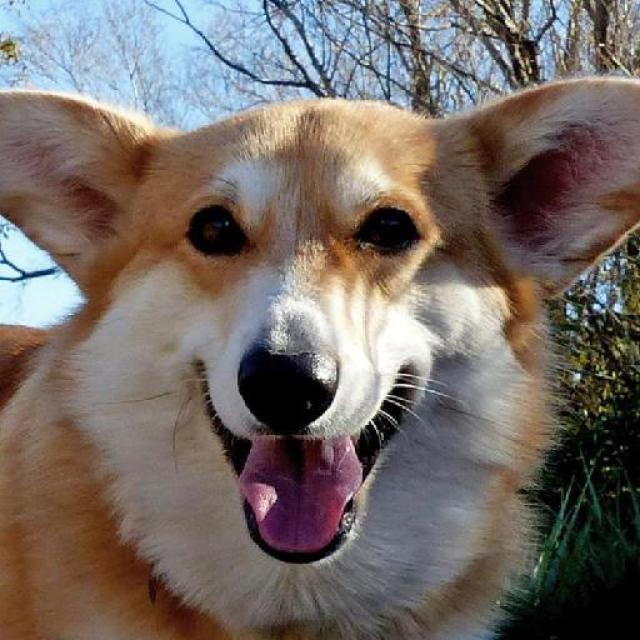adult_dog: (1, 75, 640, 640)
